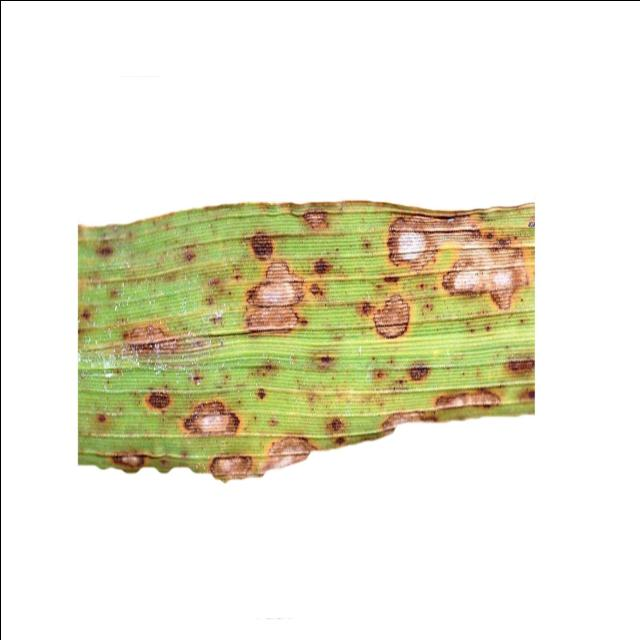Leaf blast: (11, 152, 558, 530)
